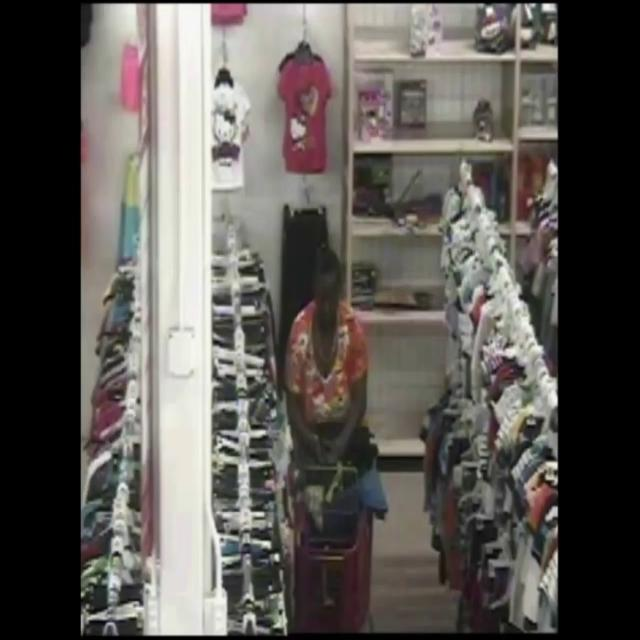normal: (260, 213, 408, 579)
